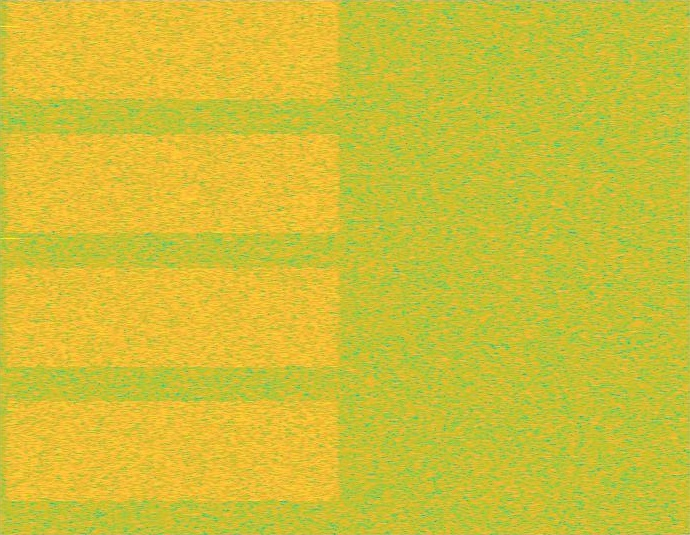5G: (0, 0, 345, 534)
Radar: (3, 0, 16, 534)
